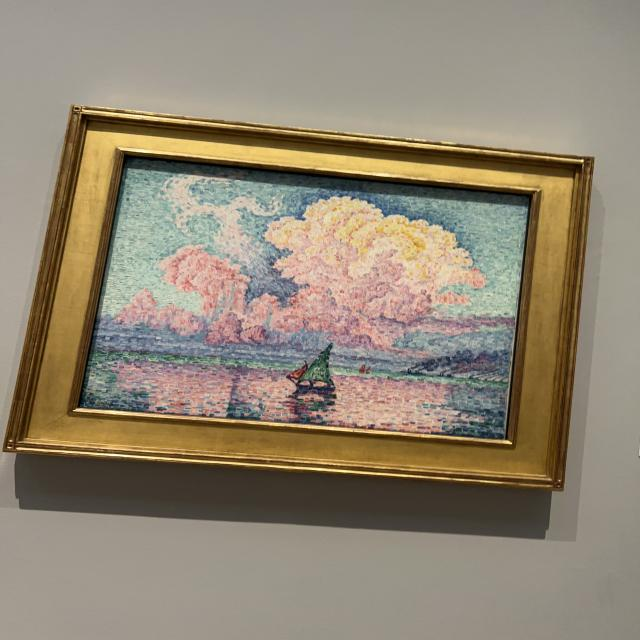sunrise: (84, 162, 526, 437)
